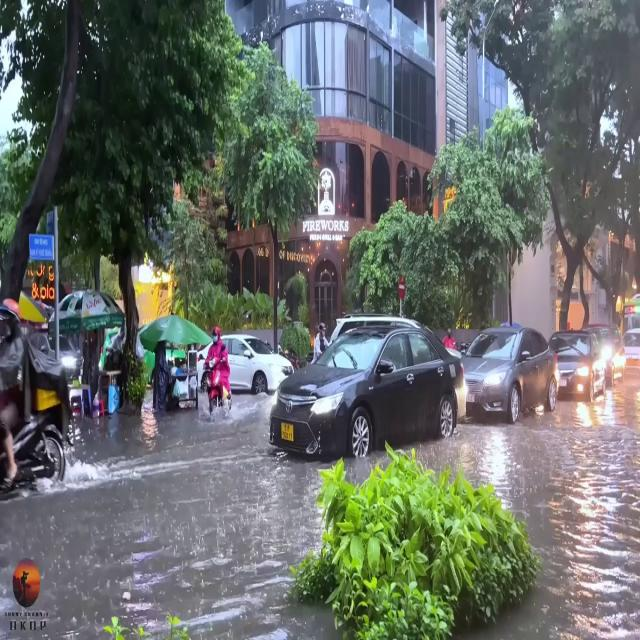bien_vang: (279, 416, 296, 444)
